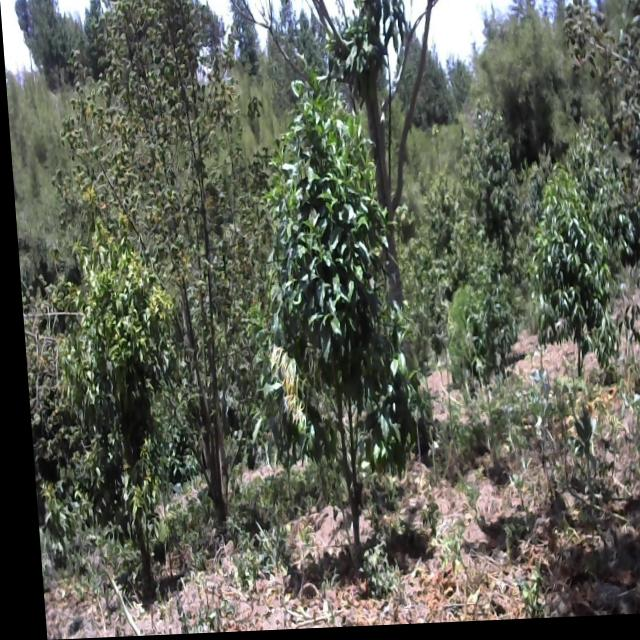Hass Avocado: (242, 63, 417, 577), (48, 188, 185, 570), (525, 168, 619, 384)
other: (46, 0, 259, 522), (560, 0, 640, 255), (450, 102, 526, 270)
